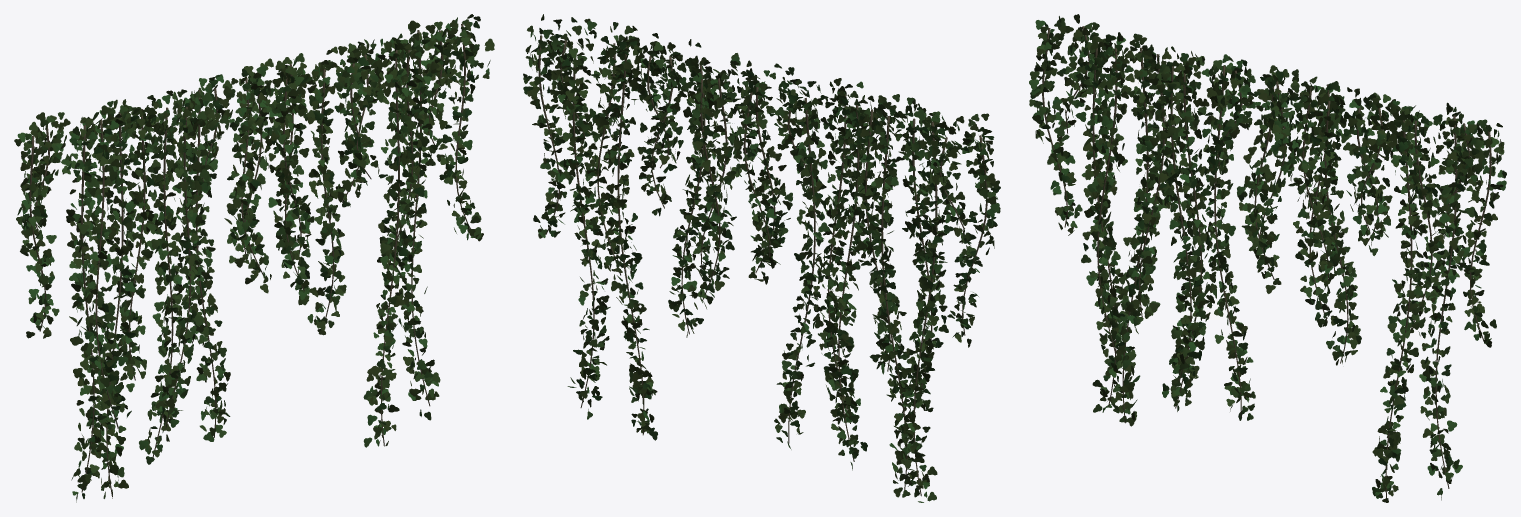
File: ER_Rideau_Lierre_3m.gltf
3 renders of one model, left to right at view 1: azimuth 30°, elevation 25°; view 2: azimuth 150°, elevation 25°; view 3: azimuth 330°, elevation 25°, orthographic.
Visible parts, largest first — view 1: ER_Rideau_Lierre_3m_FEU.001, ER_Rideau_Lierre_3m_TIG.001; view 2: ER_Rideau_Lierre_3m_FEU.001, ER_Rideau_Lierre_3m_TIG.001; view 3: ER_Rideau_Lierre_3m_FEU.001, ER_Rideau_Lierre_3m_TIG.001.
Boxes of the visible parts, x1,y1,x2,y2 form: ER_Rideau_Lierre_3m_FEU.001: (14,14,494,502); ER_Rideau_Lierre_3m_TIG.001: (29,23,474,496); ER_Rideau_Lierre_3m_FEU.001: (523,14,1000,502); ER_Rideau_Lierre_3m_TIG.001: (538,35,987,496); ER_Rideau_Lierre_3m_FEU.001: (1029,14,1506,502); ER_Rideau_Lierre_3m_TIG.001: (1042,26,1491,497).
Bounding box in the file's own units: 3.12 × 2.57 × 0.3817.
